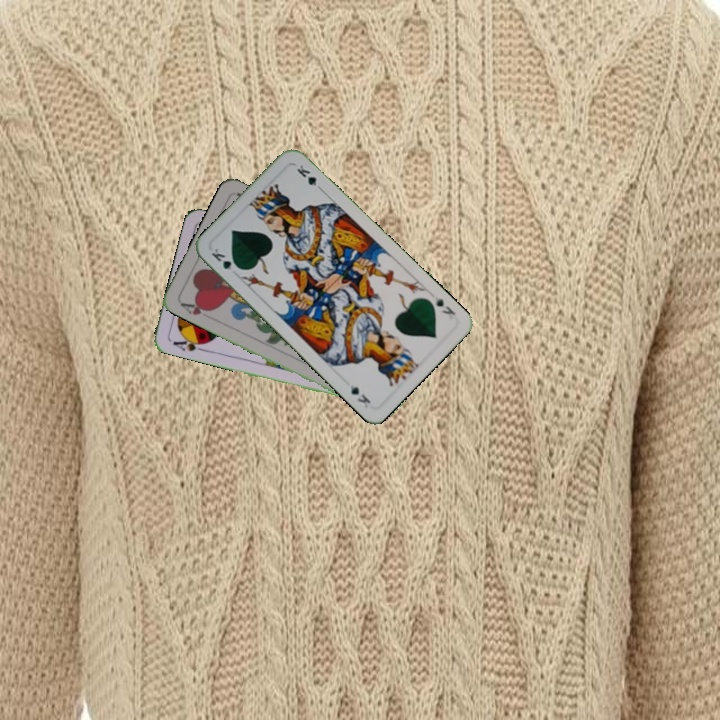GK: (207, 244, 243, 273), (427, 290, 458, 322)
HA: (176, 298, 214, 318)
SA: (169, 333, 209, 354)
